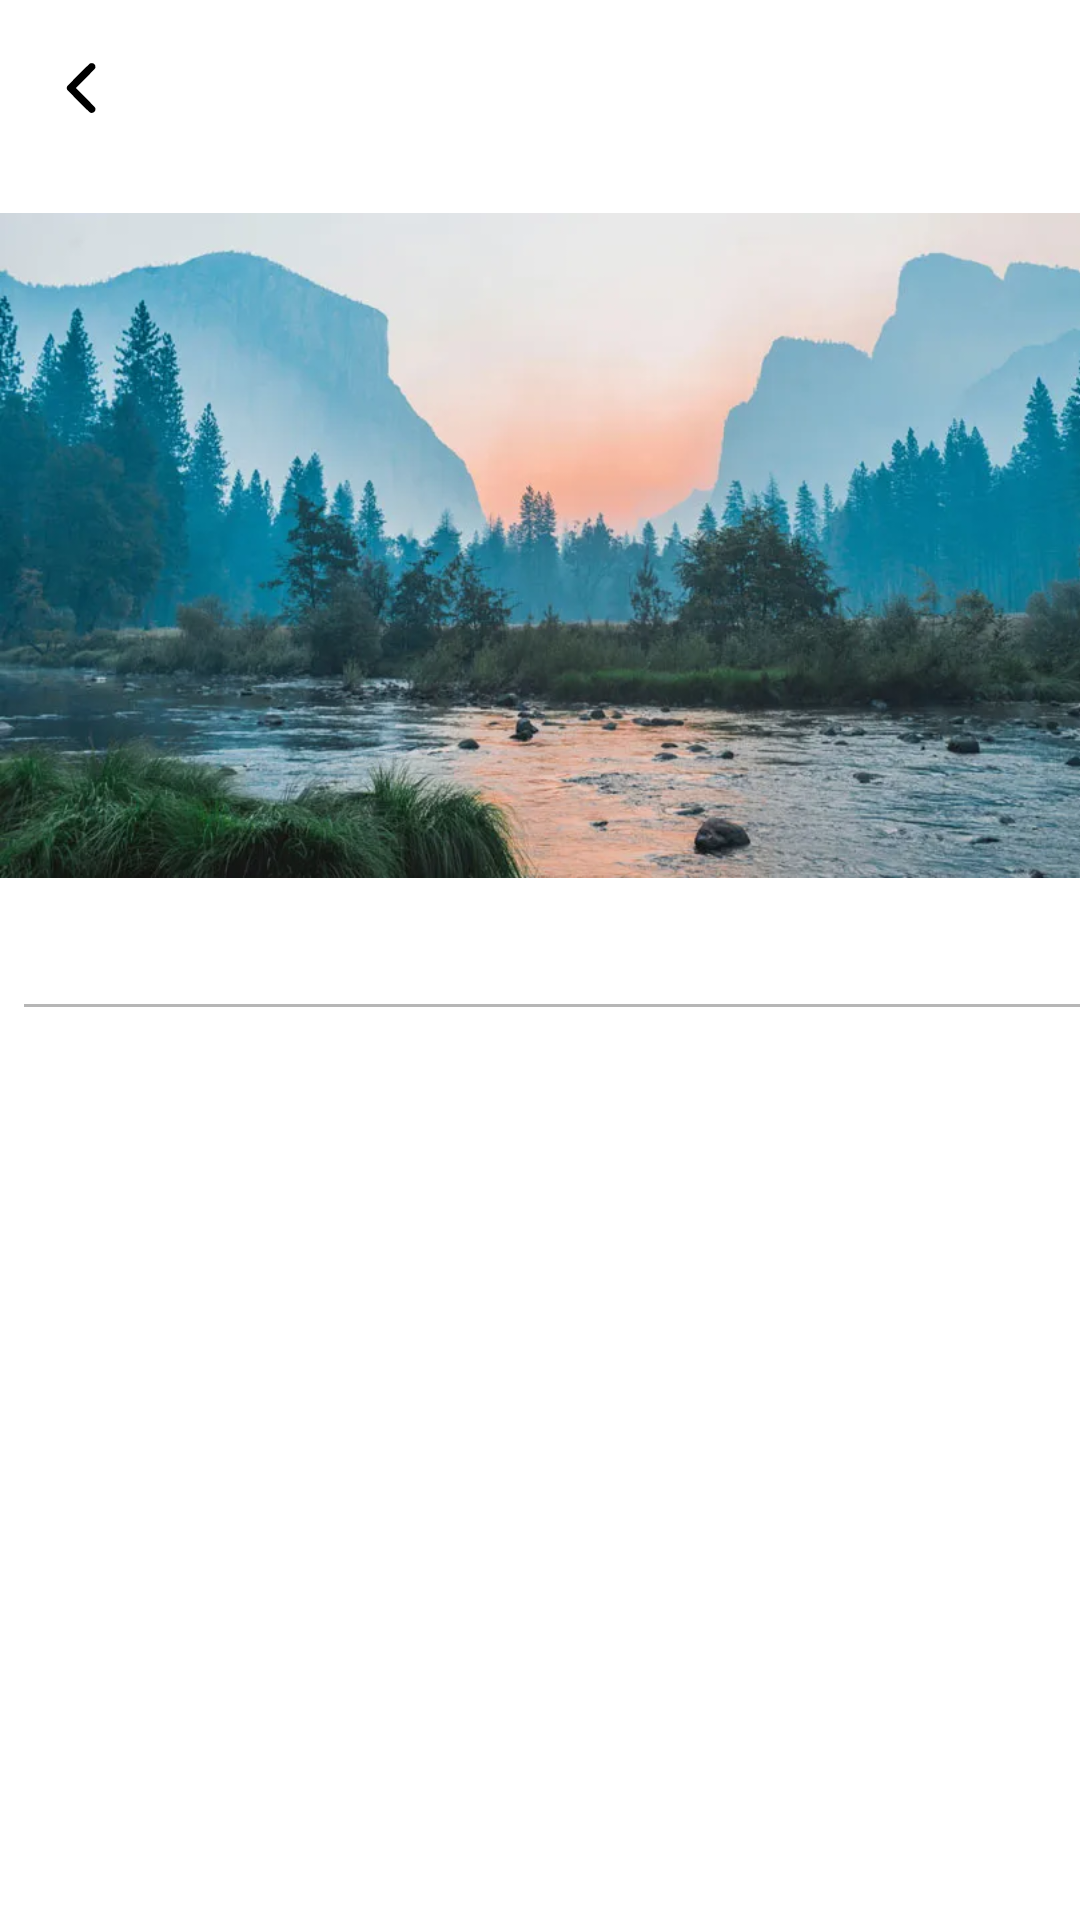

Where icons sit on this 1080px×1920px app screen, as box(x1, y1, x2, y2):
Back Button: box(66, 63, 96, 113)
